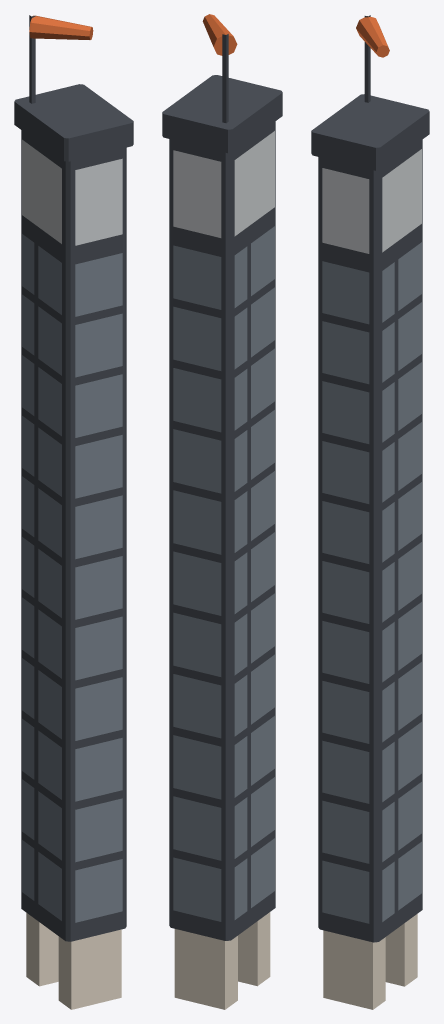
File: indy-ims-scoring-pylon.glb
3 views of the same model, side by side, from view 1: azimuth 30°, elevation 25°; view 2: azimuth 150°, elevation 25°; view 3: azimuth 330°, elevation 25° (orthographic). The views are drawn at different scales.
Parts seen in each view (by area): view 1: IMS Timing and Scoring Pylon; view 2: IMS Timing and Scoring Pylon; view 3: IMS Timing and Scoring Pylon.
Part boxes in pixels (box(x1,y1,x2,y2)): IMS Timing and Scoring Pylon: box(14, 15, 133, 1009); IMS Timing and Scoring Pylon: box(162, 14, 282, 1009); IMS Timing and Scoring Pylon: box(311, 15, 429, 1009).
Bounding box in the file's own units: 2.5 × 33.1 × 3.3.
